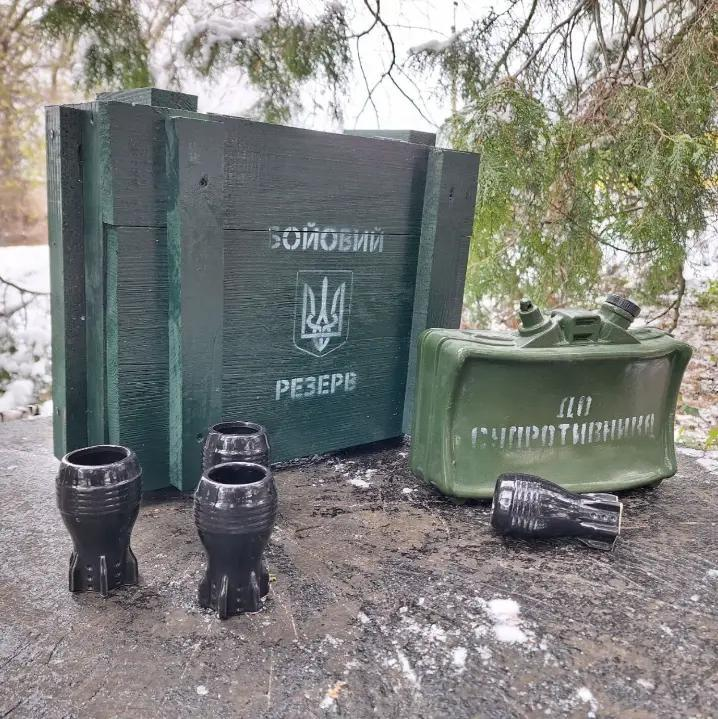MON 50: (410, 293, 693, 501)
